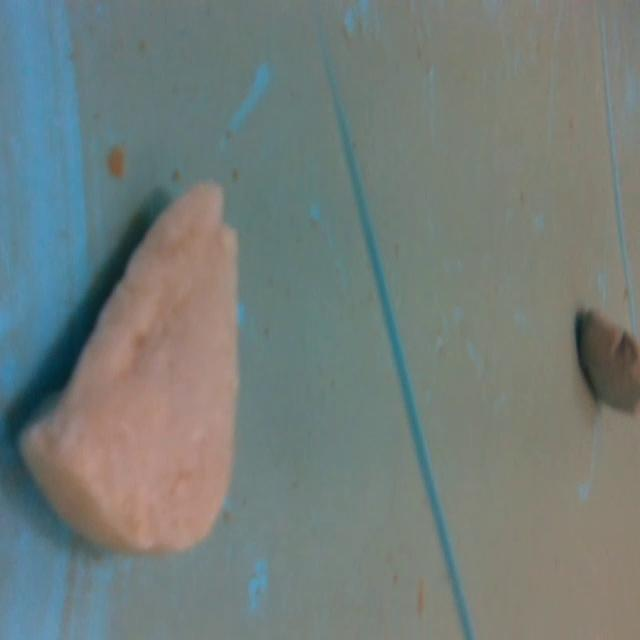rock: (11, 166, 257, 570), (570, 302, 640, 422)
